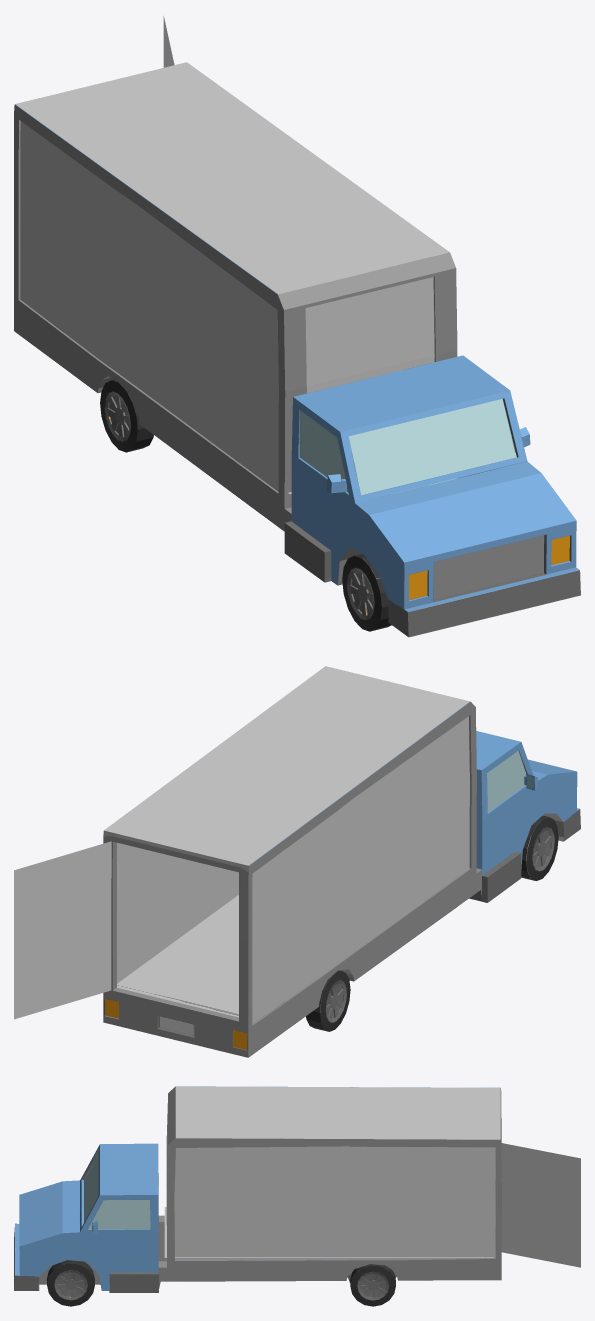
Rendered from truck_v2.fbx.
3 views of the same model, one above another, from view 1: azimuth 30°, elevation 25°; view 2: azimuth 150°, elevation 25°; view 3: azimuth 270°, elevation 25° (orthographic). The views are drawn at different scales.
Parts seen in each view (by area): view 1: truck; view 2: truck; view 3: truck.
Boxes of the visible parts, x1=… form: truck: x1=14, y1=16, x2=580, y2=637; truck: x1=14, y1=666, x2=580, y2=1057; truck: x1=14, y1=1086, x2=580, y2=1306.
Bounding box in the file's own units: 127 × 145 × 442.
1 material, 1 textured.
